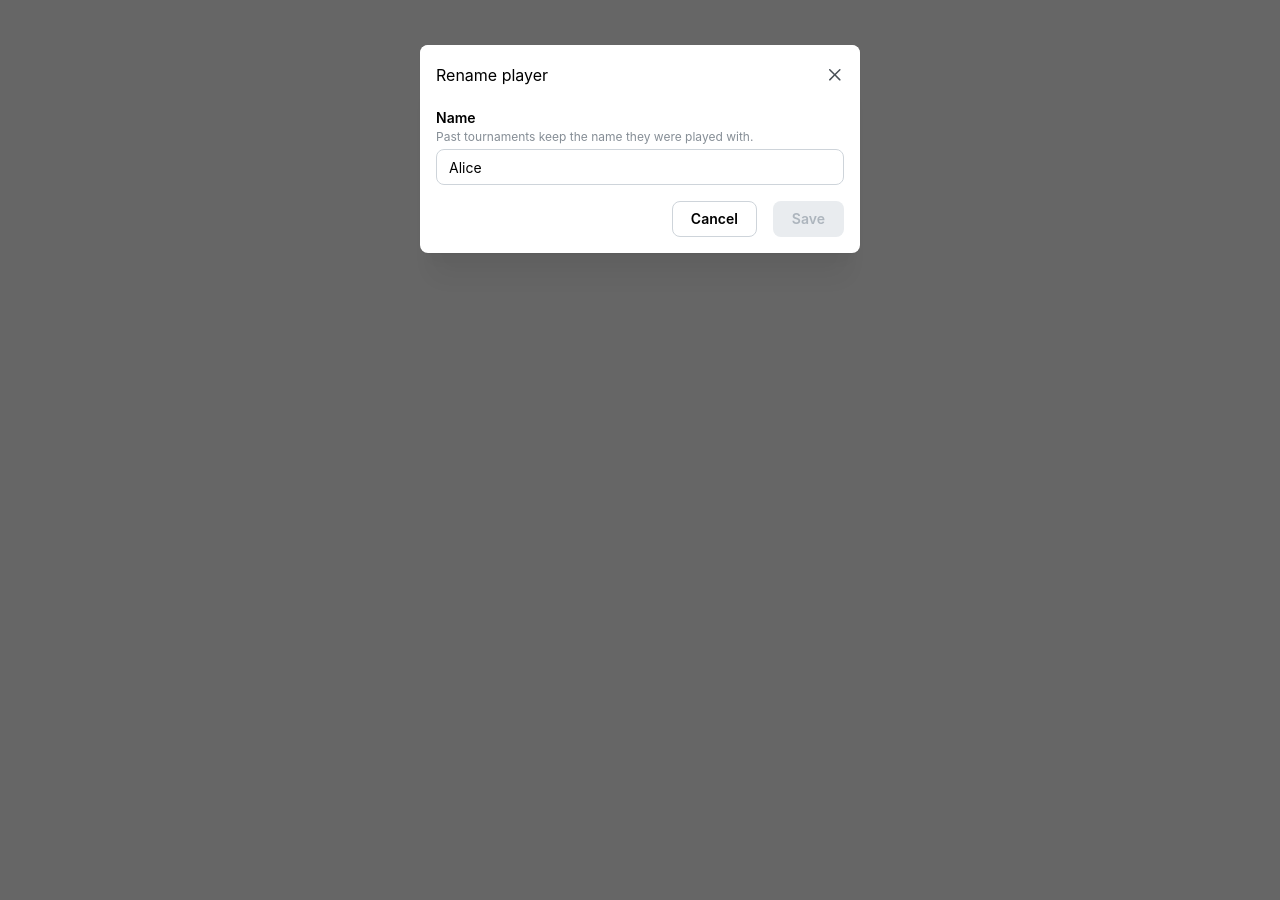
RenamePlayerModal › keeps the modal open with the error on failure
Replace the text in the field labelled "Name" with "Alicia" at x=640, y=167, box [436, 149, 844, 185]
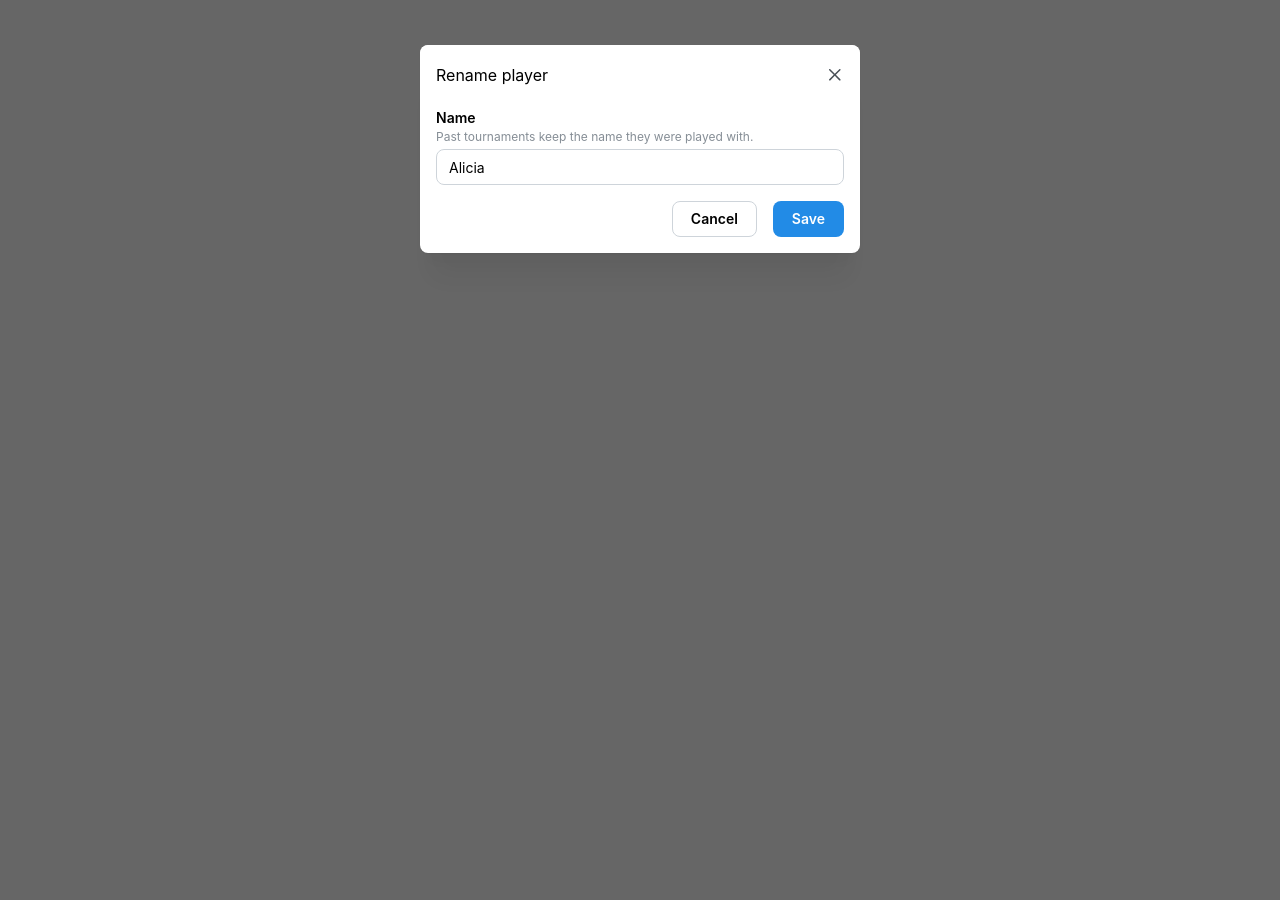
Click the button "Save" at x=808, y=219, box [773, 201, 844, 237]
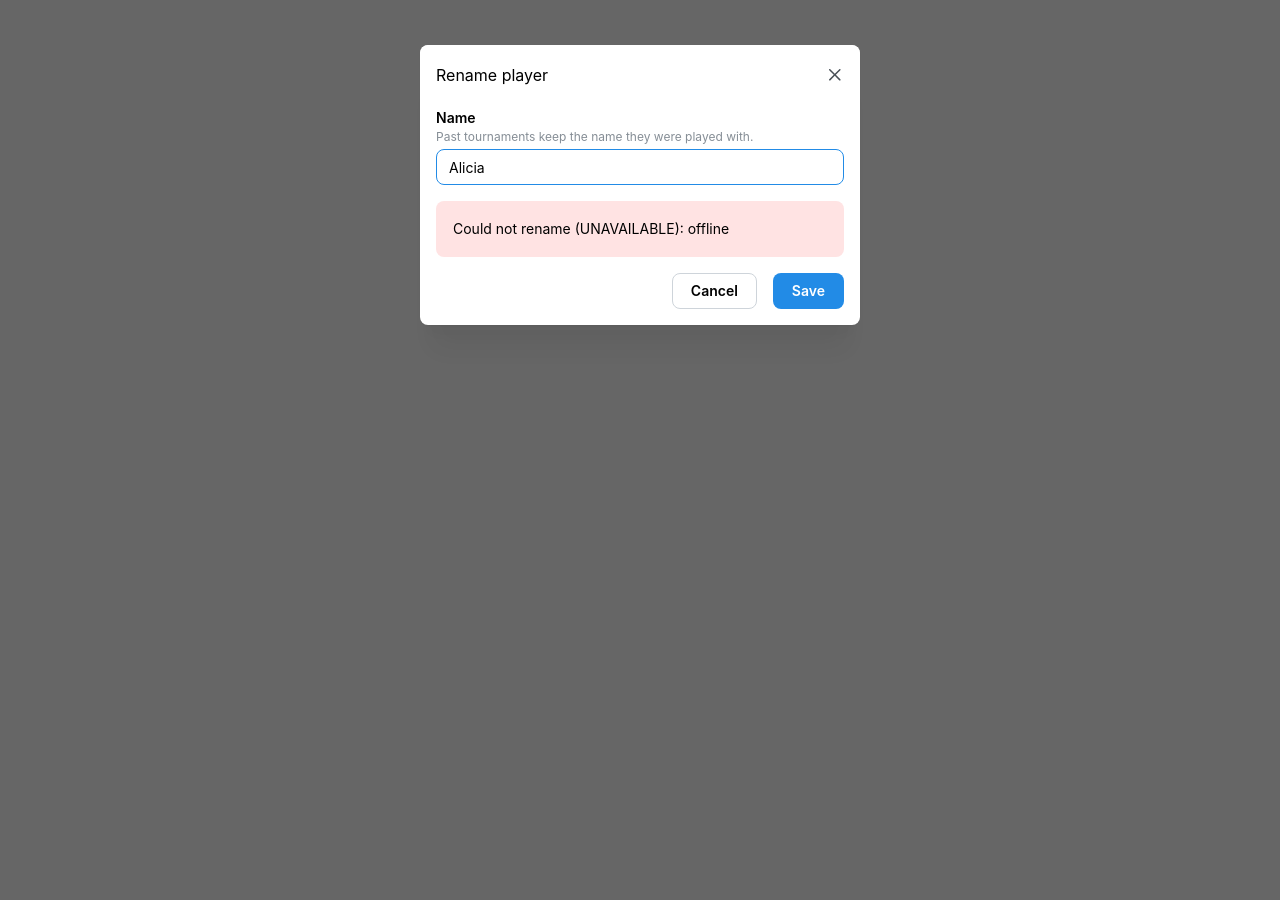
Expected: the dialog "Rename player" is shown, [420, 45, 860, 325]
Expected: the text "Could not rename (UNAVAILABLE): offline" is shown, [453, 220, 729, 237]
